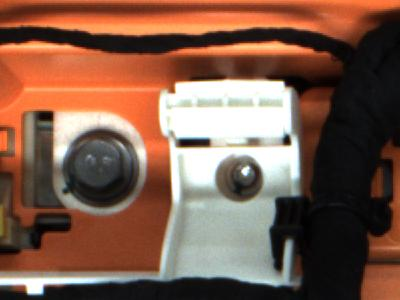nut_b: (60, 127, 146, 207)
